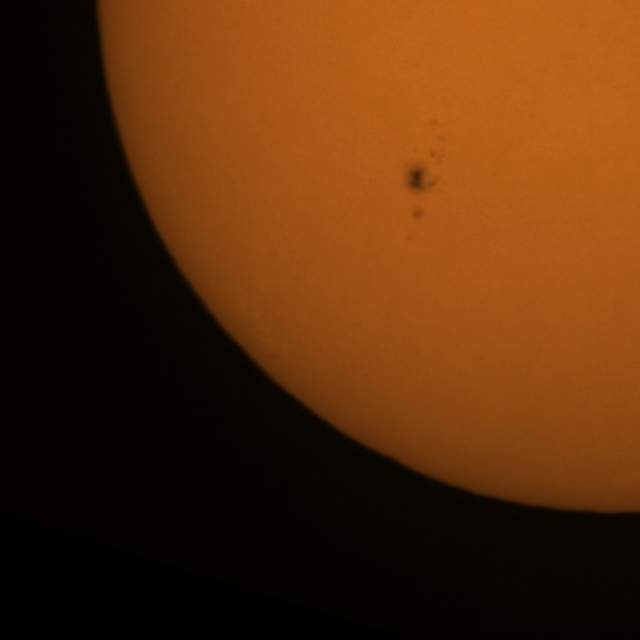sunspot: (404, 163, 438, 196), (410, 206, 426, 223)
